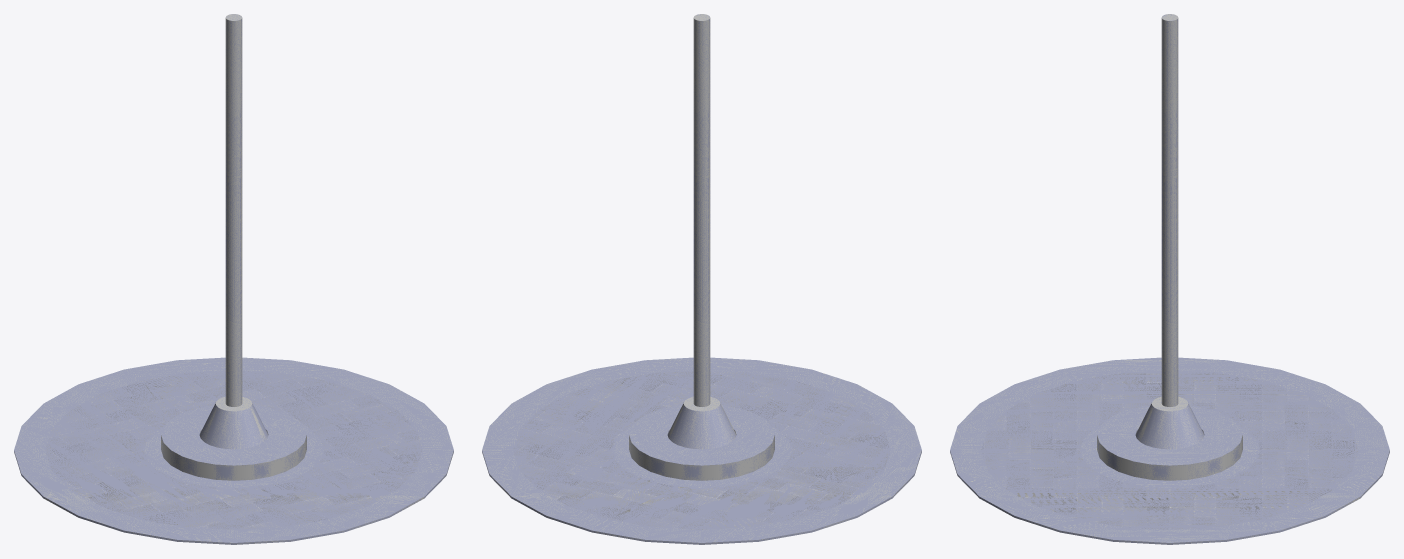
Rendered from CapturePt.fbx.
3 renders of one model, left to right at view 1: azimuth 30°, elevation 25°; view 2: azimuth 150°, elevation 25°; view 3: azimuth 270°, elevation 25°, orthographic.
Parts seen in each view (by area): view 1: Group2, Group1; view 2: Group2, Group1; view 3: Group2, Group1.
Part boxes in pixels (x1,y1,x2,y2): Group2: [14, 357, 453, 544]; Group1: [225, 18, 242, 406]; Group2: [482, 357, 921, 544]; Group1: [693, 18, 710, 406]; Group2: [950, 357, 1389, 544]; Group1: [1161, 18, 1178, 406].
Bounding box in the file's own units: 152 × 165 × 152.
